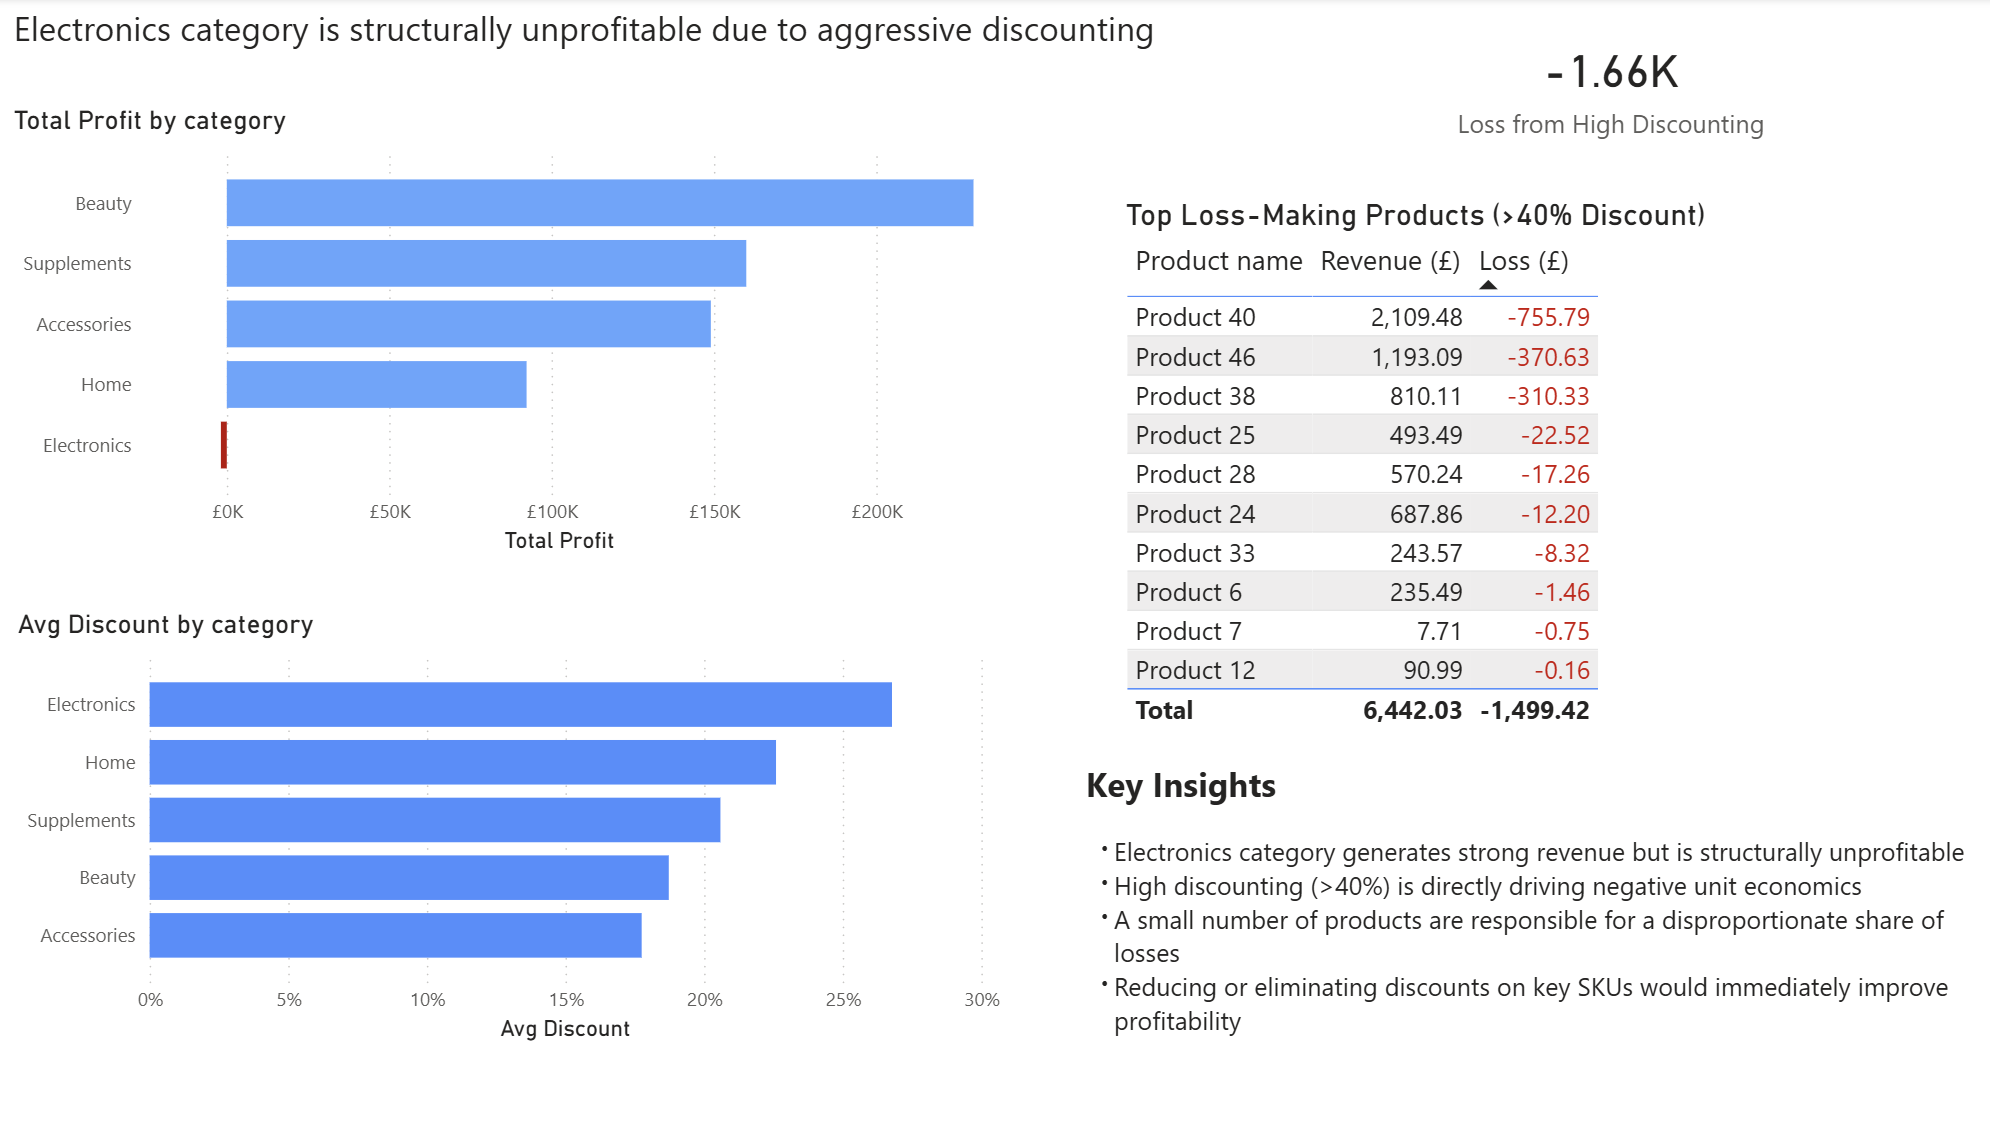

This screenshot's page, from the dashboard's own definition file:
{"tool":"powerbi","page":{"name":"Category & Product Risk","canvas":[1280,720],"ordinal":1},"visuals":[{"type":"barChart","fields":{"Category":["df.category"],"Y":["df.Total Profit"]},"box":[10.2,68.8,638.7,290.7],"z":0},{"type":"tableEx","title":"Top Loss-Making Products (>40% Discount)","fields":{"Values":["df.product_name","Sum(df.revenue)","Sum(df.profit)"]},"box":[719,127.5,443.7,364.6],"z":1000},{"type":"textbox","box":[693.5,481.9,586.5,205.3],"z":2000},{"type":"textbox","box":[10.2,0,860.6,44.6],"z":3000},{"type":"card","fields":{"Values":["df.High Discount Loss"]},"box":[903.9,8.9,258.8,94.3],"z":4000},{"type":"barChart","fields":{"Category":["df.category"],"Y":["df.Avg Discount"]},"box":[12.7,390.1,636.2,280.5],"z":5000}]}

Visuals, with their boxes in screenshot pixels (x1, y1, x2, y2), scaled from the page's 1280x720 canvas onto the 1990x1125 screenshot:
barChart - df.category x df.Total Profit: 16, 108, 1009, 562
"Top Loss-Making Products (>40% Discount)" tableEx: 1118, 199, 1808, 769
textbox: 1078, 753, 1989, 1074
textbox: 16, 0, 1354, 70
card - df.High Discount Loss: 1405, 14, 1808, 161
barChart - df.category x df.Avg Discount: 20, 610, 1009, 1048
